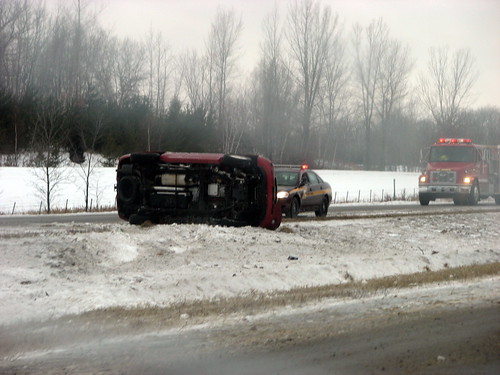car: (111, 151, 283, 229)
firetruck: (419, 144, 500, 212)
police car: (268, 161, 331, 221)
street: (1, 213, 480, 375)
vegetation: (1, 1, 484, 165)
